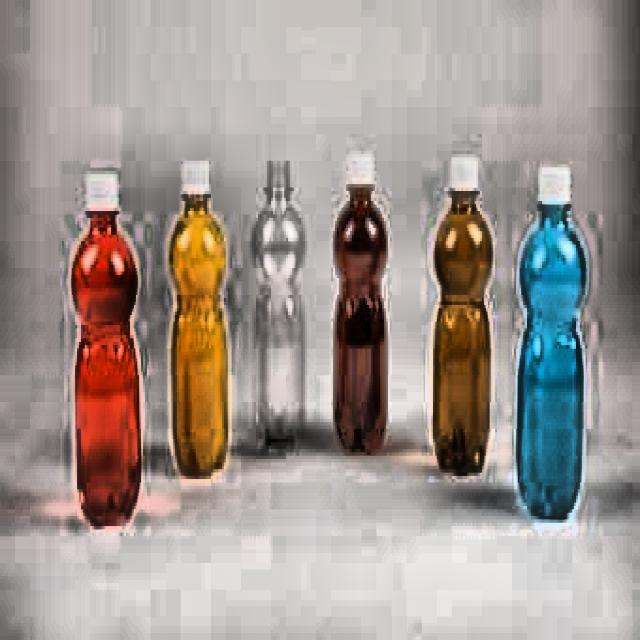Bottles: (510, 138, 595, 544), (157, 151, 246, 517), (69, 162, 144, 553), (418, 148, 499, 488), (321, 140, 404, 471)
